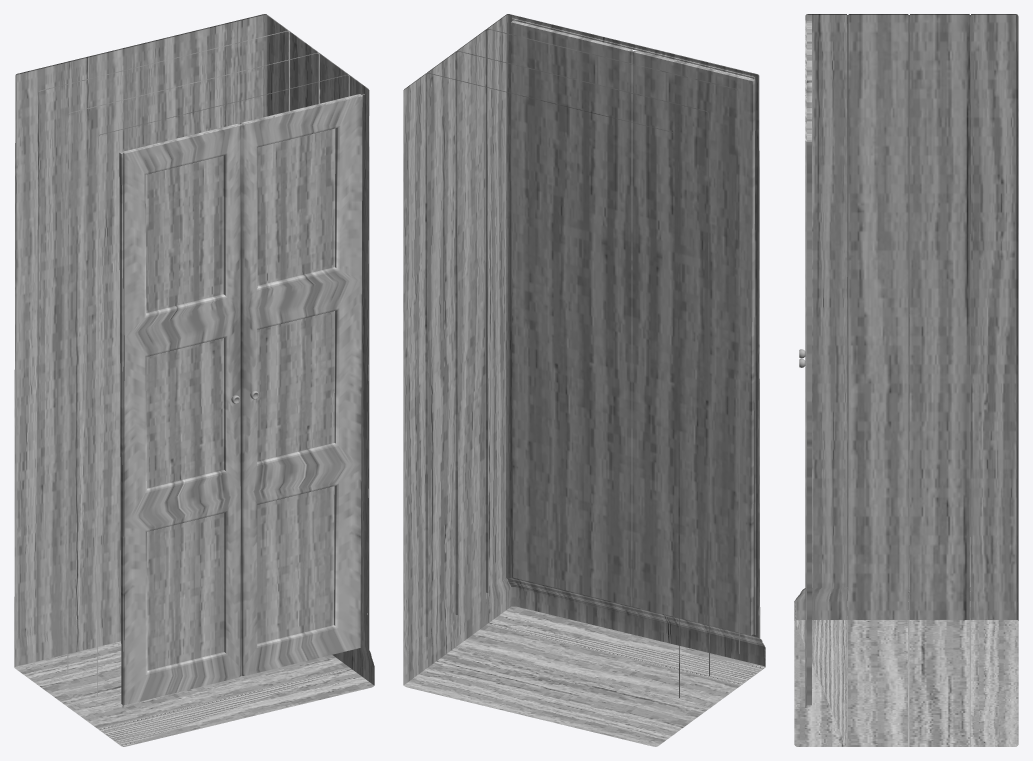
The model's file is Project Name.gltf.
3 views of the same model, side by side, from view 1: azimuth 30°, elevation 25°; view 2: azimuth 150°, elevation 25°; view 3: azimuth 270°, elevation 25° (orthographic). The views are drawn at different scales.
Parts seen in each view (by area): view 1: Buffer Object; view 2: Buffer Object; view 3: Buffer Object.
Boxes of the visible parts, x1=… form: Buffer Object: x1=14, y1=14, x2=374, y2=746; Buffer Object: x1=403, y1=14, x2=765, y2=746; Buffer Object: x1=794, y1=14, x2=1018, y2=746.
Size of the model in its own units: 0.000999 by 0.00224 by 0.00075.
Materials: 1 (1 with a texture image).
